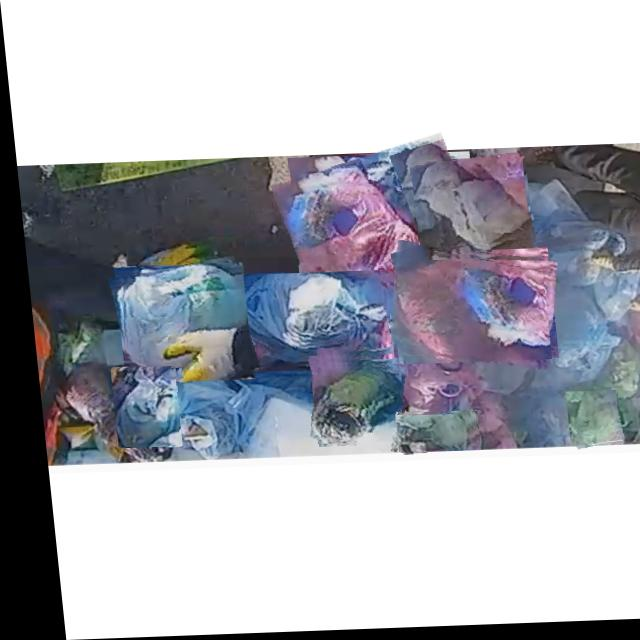general_trashbag: (303, 366, 395, 445), (388, 415, 465, 452), (563, 395, 612, 450)
other_trashbag: (282, 169, 488, 332), (387, 255, 543, 363), (115, 265, 241, 387), (236, 275, 381, 364), (410, 165, 525, 248), (107, 369, 168, 447)
